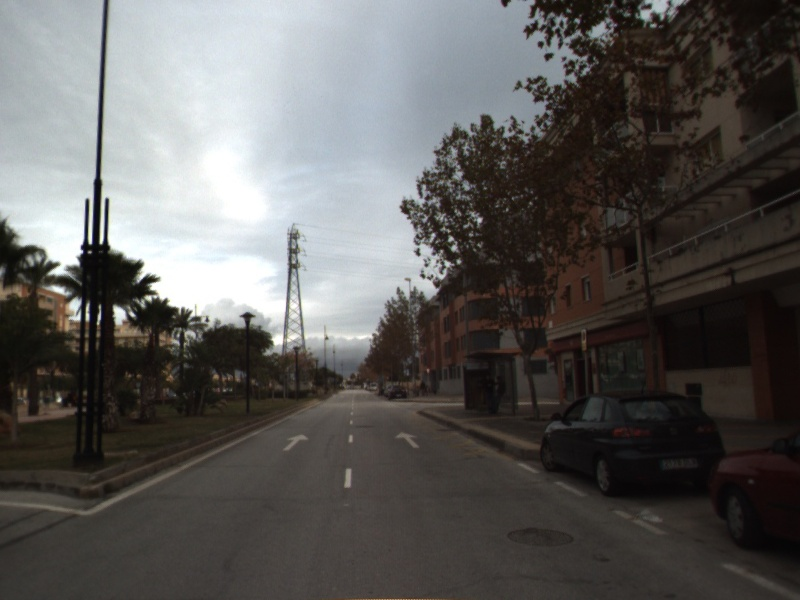STRAIGHT: (280, 432, 311, 453), (393, 430, 422, 450)
